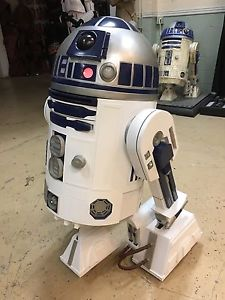r2d2: (44, 16, 202, 282), (152, 22, 201, 102)
